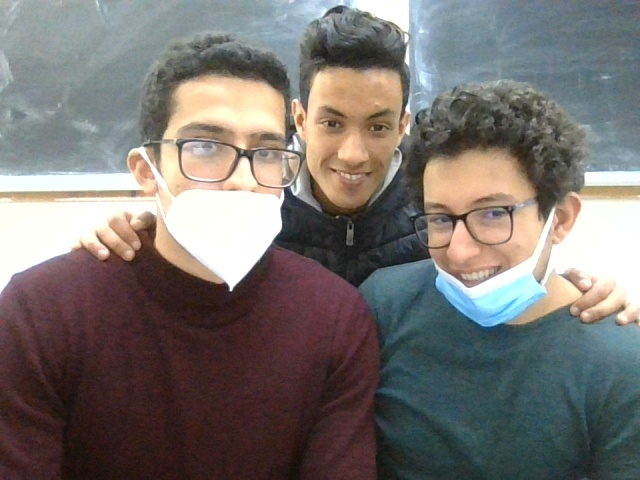mask_weared_incorrect: (140, 34, 301, 301), (405, 101, 592, 323)
without_mask: (291, 2, 411, 204)
